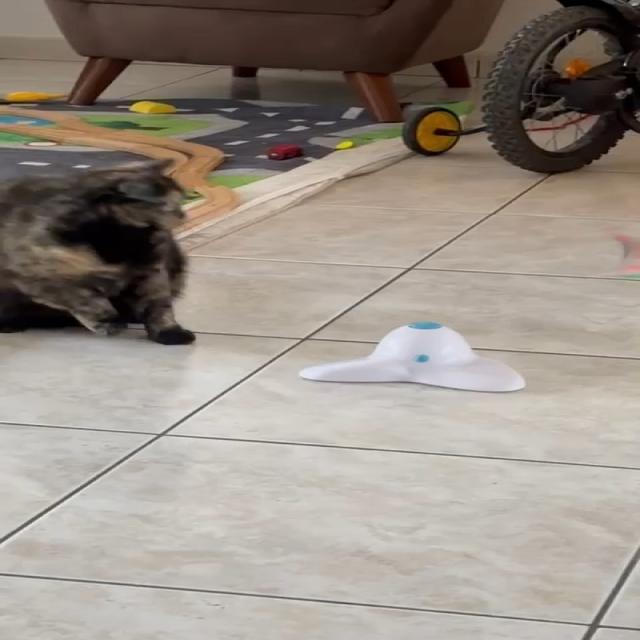authorized: (0, 157, 196, 346)
